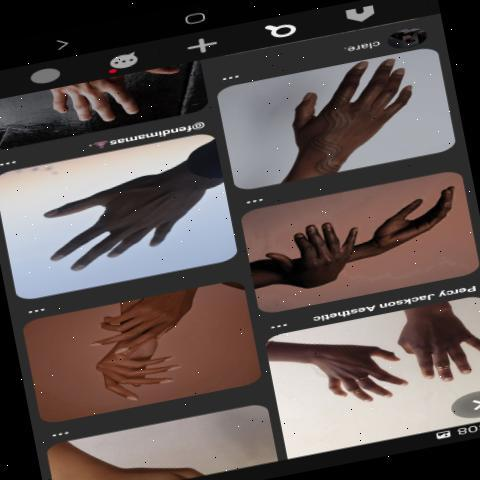Hands: (31, 156, 204, 278), (277, 57, 431, 171), (270, 336, 404, 424), (344, 182, 467, 258), (388, 304, 476, 399), (263, 215, 364, 292), (74, 343, 185, 408), (73, 299, 194, 353)
